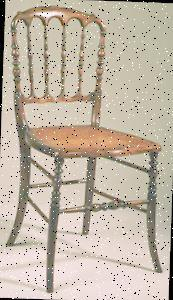Silla: (0, 5, 172, 299)
